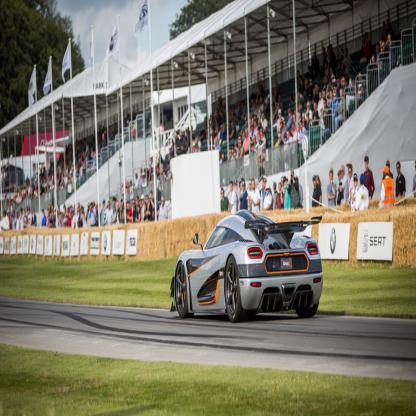car: (159, 210, 325, 330)
